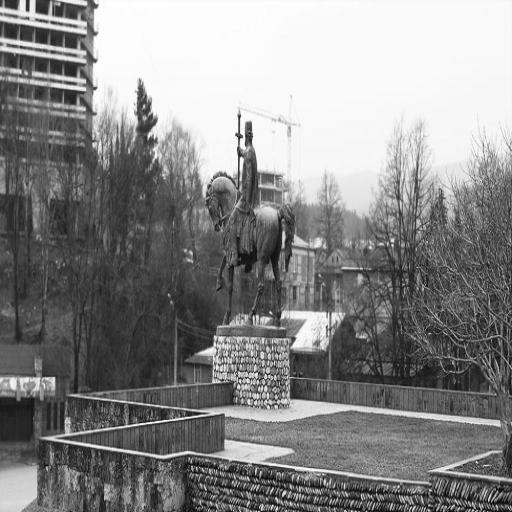horse: (206, 166, 296, 330)
